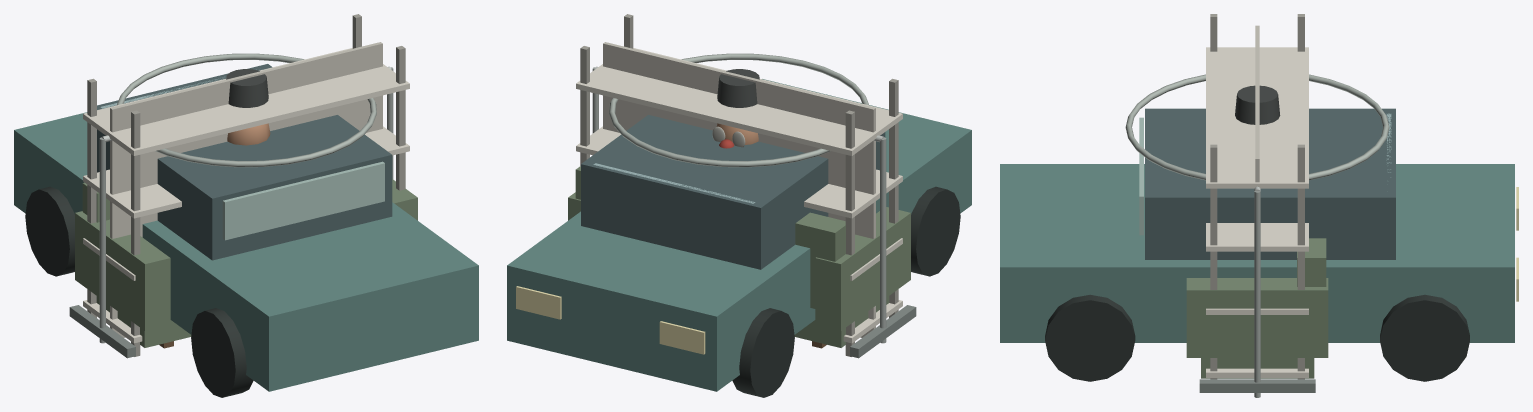
Rendered from thrift-kit.glb.
The picture shows the model from 3 angles, left to right: view 1: azimuth 30°, elevation 25°; view 2: azimuth 150°, elevation 25°; view 3: azimuth 270°, elevation 25°; orthographic projection.
Parts seen in each view (by area): view 1: car, shelf, sofa, round-rack, rack, manager, cashier; view 2: car, shelf, sofa, round-rack, rack, manager; view 3: car, shelf, sofa, rack, round-rack, manager.
Boxes of the visible parts, box(x1,y1,x2,y2) form: car: box(14, 64, 478, 397); shelf: box(83, 14, 409, 356); sofa: box(75, 179, 417, 348); round-rack: box(117, 53, 376, 167); rack: box(69, 66, 393, 358); manager: box(226, 69, 268, 107); cashier: box(227, 123, 270, 145); car: box(507, 79, 971, 397); shelf: box(576, 14, 902, 356); sofa: box(568, 166, 910, 348); round-rack: box(609, 53, 868, 167); rack: box(592, 66, 916, 358); manager: box(712, 69, 759, 148); car: box(1000, 108, 1518, 381); shelf: box(1206, 14, 1308, 379); sofa: box(1186, 238, 1328, 378); rack: box(1199, 186, 1315, 397); round-rack: box(1125, 74, 1389, 180); manager: box(1235, 85, 1280, 124).
Size of the model in its own units: 2.68 by 2.13 by 4.03.
